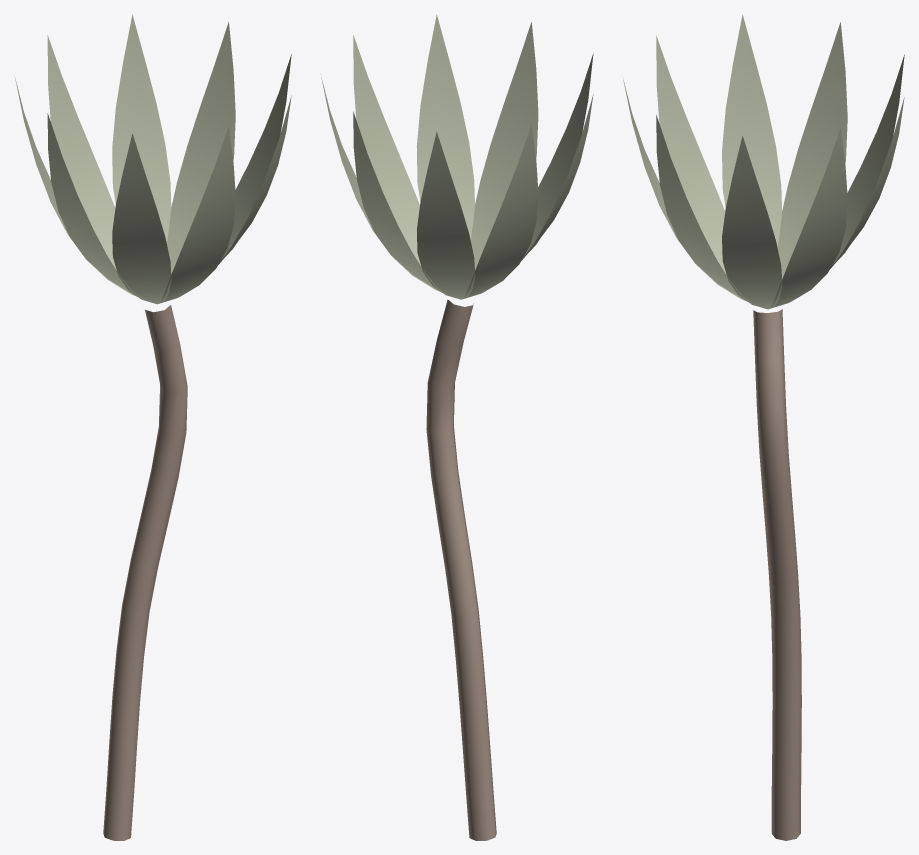
The model's file is prop-palm.glb.
3 views of the same model, side by side, from view 1: azimuth 30°, elevation 25°; view 2: azimuth 150°, elevation 25°; view 3: azimuth 270°, elevation 25° (orthographic). The views are drawn at different scales.
Visible parts, largest first — view 1: palm, Group_9, Group_19, Group_11, Group_3, Group_13, Group_17, Group_7, Group_5, Group_15; view 2: palm, Group_3, Group_13, Group_5, Group_15, Group_7, Group_11, Group_19, Group_17, Group_9; view 3: palm, Group_15, Group_7, Group_17, Group_9, Group_19, Group_5, Group_13, Group_11, Group_3.
Boxes of the visible parts, box(x1,y1,x2,y2) form: palm: box(103, 305, 187, 840); Group_9: box(167, 21, 235, 274); Group_19: box(112, 133, 171, 304); Group_11: box(112, 14, 171, 243); Group_3: box(158, 126, 235, 303); Group_13: box(47, 35, 116, 270); Group_17: box(47, 113, 145, 300); Group_7: box(221, 54, 291, 259); Group_5: box(165, 95, 291, 301); Group_15: box(14, 76, 134, 295); palm: box(426, 299, 496, 840); Group_3: box(471, 22, 538, 270); Group_13: box(417, 131, 475, 299); Group_5: box(416, 14, 474, 240); Group_15: box(462, 125, 538, 299); Group_7: box(353, 35, 420, 265); Group_11: box(353, 111, 451, 296); Group_19: box(524, 53, 593, 255); Group_17: box(469, 93, 593, 297); Group_9: box(320, 74, 438, 291); palm: box(753, 309, 801, 840); Group_15: box(777, 22, 847, 279); Group_7: box(722, 136, 782, 309); Group_17: box(722, 15, 781, 247); Group_9: box(769, 129, 847, 308); Group_19: box(656, 36, 726, 274); Group_5: box(656, 115, 759, 306); Group_13: box(833, 54, 904, 263); Group_11: box(776, 97, 904, 306); Group_3: box(623, 78, 746, 301).
Size of the model in its own units: 3.13 by 9.34 by 3.08.
